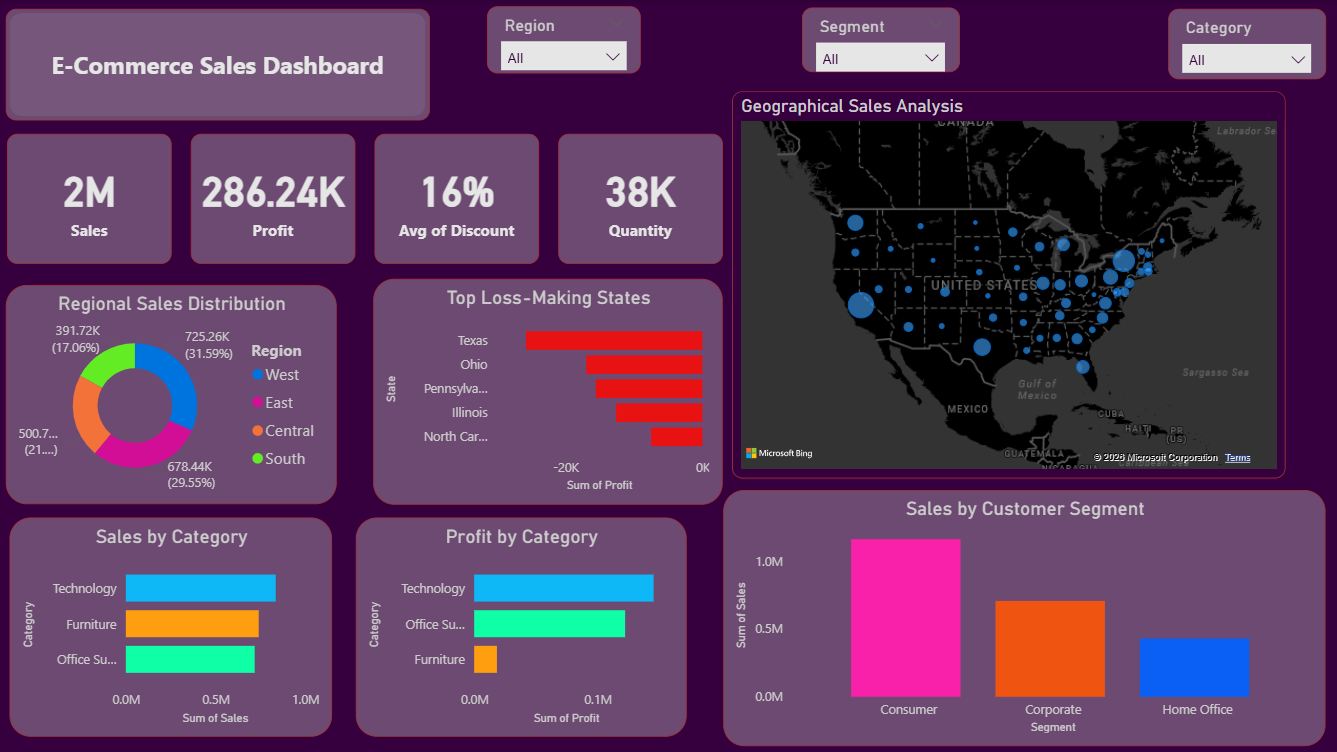

What the dashboard file says about the page in this screenshot:
{"tool":"powerbi","page":{"name":"Page 1","canvas":[1280,720],"ordinal":0},"visuals":[{"type":"card","title":"Total Sales","fields":{"Values":["Sum(cleaned_superstore.Sales)"]},"box":[9,127,157,124],"z":0},{"type":"card","title":"Total Profit","fields":{"Values":["Sum(cleaned_superstore.Profit)"]},"box":[184,127,157,124],"z":1000},{"type":"card","title":"Quantity","fields":{"Values":["Sum(cleaned_superstore.Quantity)"]},"box":[534,127,157,124],"z":2000},{"type":"card","title":"Average discount","fields":{"Values":["Avg(cleaned_superstore.Discount)"]},"box":[359,127,157,124],"z":3000},{"type":"clusteredBarChart","title":"Sales by Category","fields":{"Category":["cleaned_superstore.Category"],"Y":["Sum(cleaned_superstore.Sales)"]},"box":[12.5,492.5,307.5,208.8],"z":4000},{"type":"clusteredBarChart","title":"Profit by Category","fields":{"Category":["cleaned_superstore.Category"],"Y":["Sum(cleaned_superstore.Profit)"]},"box":[341.2,492.5,315,208.8],"z":5000},{"type":"donutChart","title":"Regional Sales Distribution","fields":{"Category":["cleaned_superstore.Region"],"Y":["Sum(cleaned_superstore.Sales)"]},"box":[8.8,271.2,315,208.8],"z":6000},{"type":"clusteredColumnChart","title":"Sales by Customer Segment","fields":{"Category":["cleaned_superstore.Segment"],"Y":["Sum(cleaned_superstore.Sales)"]},"box":[691.2,466.2,573.8,243.8],"z":7000},{"type":"clusteredBarChart","title":"Top Loss-Making States","fields":{"Y":["Sum(cleaned_superstore.Profit)"],"Category":["cleaned_superstore.State"]},"box":[358.8,265,332.5,215],"z":8000},{"type":"map","title":"Geographical Sales Analysis","fields":{"Category":["cleaned_superstore.State"],"Size":["Sum(cleaned_superstore.Sales)"]},"box":[700,87.5,527.5,368.8],"z":9000},{"type":"slicer","fields":{"Values":["cleaned_superstore.Region"]},"box":[466.2,6.2,146.2,63.8],"z":10000},{"type":"slicer","fields":{"Values":["cleaned_superstore.Category"]},"box":[1115,8.8,150,67.5],"z":11000},{"type":"slicer","fields":{"Values":["cleaned_superstore.Segment"]},"box":[766.2,7.5,150,61.2],"z":12000},{"type":"shape","box":[8.8,8.8,403.8,106.2],"z":13000}]}

Visuals, with their boxes in screenshot pixels (x1, y1, x2, y2), scaled from the page's 1280x720 canvas onto the 1337x752 screenshot:
"Total Sales" card: left=9, top=133, right=173, bottom=262
"Total Profit" card: left=192, top=133, right=356, bottom=262
"Quantity" card: left=558, top=133, right=722, bottom=262
"Average discount" card: left=375, top=133, right=539, bottom=262
"Sales by Category" clusteredBarChart: left=13, top=514, right=334, bottom=732
"Profit by Category" clusteredBarChart: left=356, top=514, right=685, bottom=732
"Regional Sales Distribution" donutChart: left=9, top=283, right=338, bottom=501
"Sales by Customer Segment" clusteredColumnChart: left=722, top=487, right=1321, bottom=742
"Top Loss-Making States" clusteredBarChart: left=375, top=277, right=722, bottom=501
"Geographical Sales Analysis" map: left=731, top=91, right=1282, bottom=477
slicer - cleaned_superstore.Region: left=487, top=6, right=640, bottom=73
slicer - cleaned_superstore.Category: left=1165, top=9, right=1321, bottom=80
slicer - cleaned_superstore.Segment: left=800, top=8, right=957, bottom=72
shape: left=9, top=9, right=431, bottom=120
